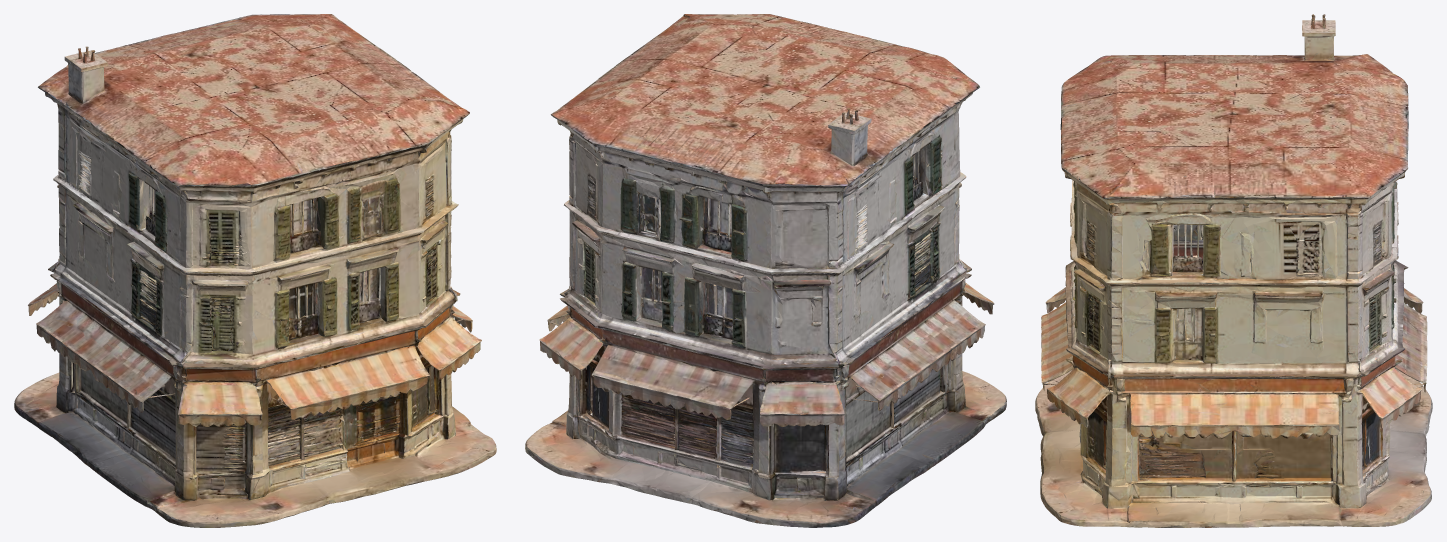
File: shop_block.glb
3 views of the same model, side by side, from view 1: azimuth 30°, elevation 25°; view 2: azimuth 150°, elevation 25°; view 3: azimuth 270°, elevation 25° (orthographic).
Visible parts, largest first — view 1: world; view 2: world; view 3: world.
Boxes of the visible parts, bbox=[...] form: world: bbox=[14, 14, 496, 527]; world: bbox=[525, 14, 1006, 527]; world: bbox=[1035, 14, 1432, 527].
Bounding box in the file's own units: 1.83 × 1.98 × 1.92.
Materials: 1 (1 with a texture image).
